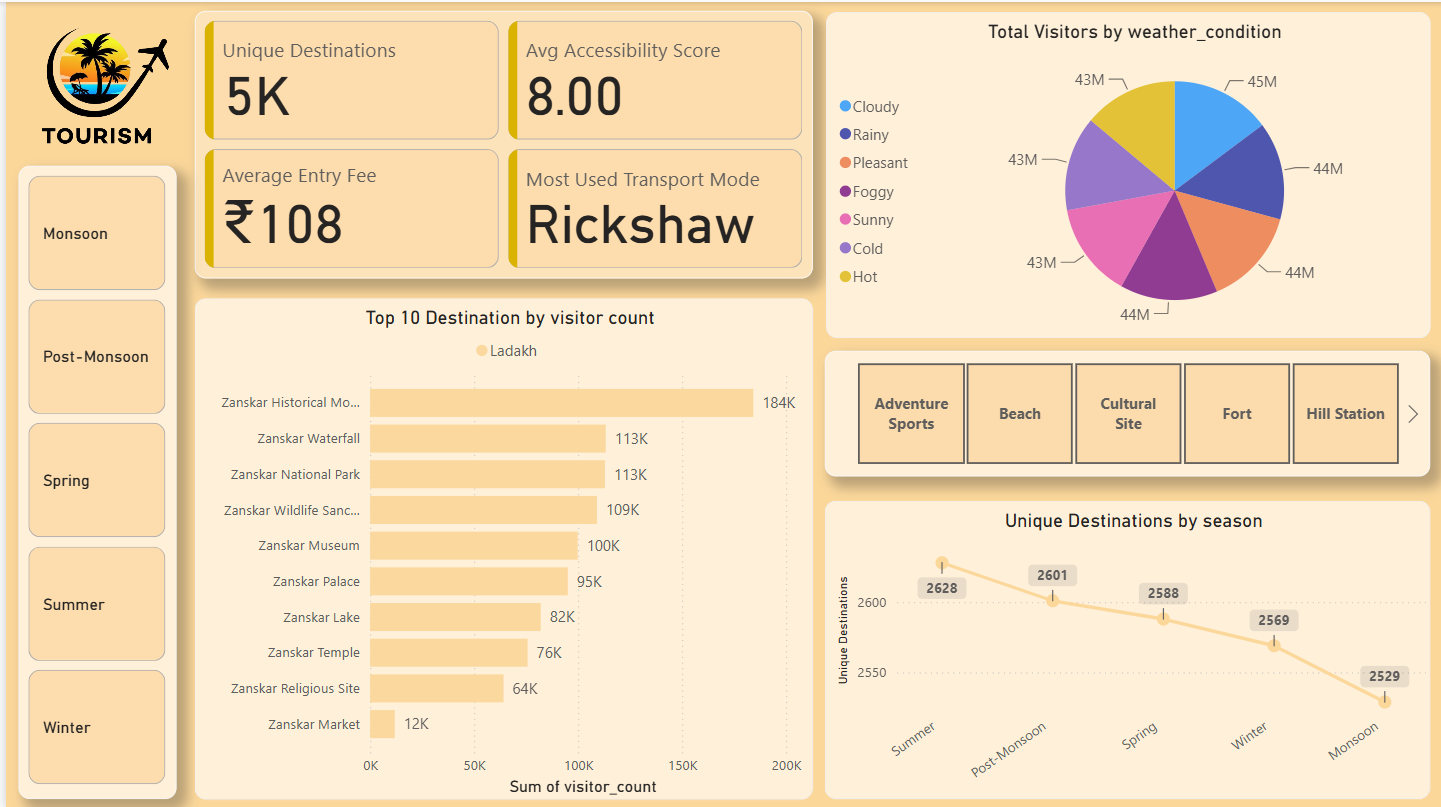

The page's visual inventory and layout, read from the dashboard file:
{"tool":"powerbi","page":{"name":"Page 3","canvas":[1280,720],"ordinal":2},"visuals":[{"type":"cardVisual","fields":{"Data":["main_data.Unique Destinations","main_data.Avg Accessibility Score","Avg(main_data.entry_fee_inr)","main_data.Most Used Transport Mode"]},"box":[167.9,8,550.2,238.3],"z":0},{"type":"advancedSlicerVisual","fields":{"Values":["main_data.season"]},"box":[10.9,145.4,140.7,564.2],"z":1000},{"type":"pieChart","fields":{"Category":["main_data.weather_condition"],"Y":["main_data.Total Visitors"]},"box":[730,8.6,538.6,290],"z":2000},{"type":"barChart","title":" Top 10 Destination by visitor count","fields":{"Category":["main_data.destination_name"],"Y":["Sum(main_data.visitor_count)"],"Series":["main_data.state"]},"box":[167.9,263.9,550.2,446.2],"z":3000},{"type":"lineChart","fields":{"Y":["main_data.Unique Destinations"],"Category":["main_data.season"]},"box":[729.3,444.6,539,265.5],"z":4000},{"type":"slicer","fields":{"Values":["main_data.destination_type"]},"box":[729.3,310.3,539,112],"z":5000},{"type":"image","box":[10.9,7.8,140.7,126.6],"z":6000}]}

Visuals, with their boxes in screenshot pixels (x1, y1, x2, y2), scaled from the page's 1280x720 canvas onto the 1441x807 screenshot:
cardVisual - main_data.Unique Destinations x main_data.Avg Accessibility Score: Rect(189, 9, 808, 276)
advancedSlicerVisual - main_data.season: Rect(12, 163, 171, 795)
pieChart - main_data.weather_condition x main_data.Total Visitors: Rect(822, 10, 1428, 335)
" Top 10 Destination by visitor count" barChart: Rect(189, 296, 808, 796)
lineChart - main_data.Unique Destinations x main_data.season: Rect(821, 498, 1428, 796)
slicer - main_data.destination_type: Rect(821, 348, 1428, 473)
image: Rect(12, 9, 171, 151)
